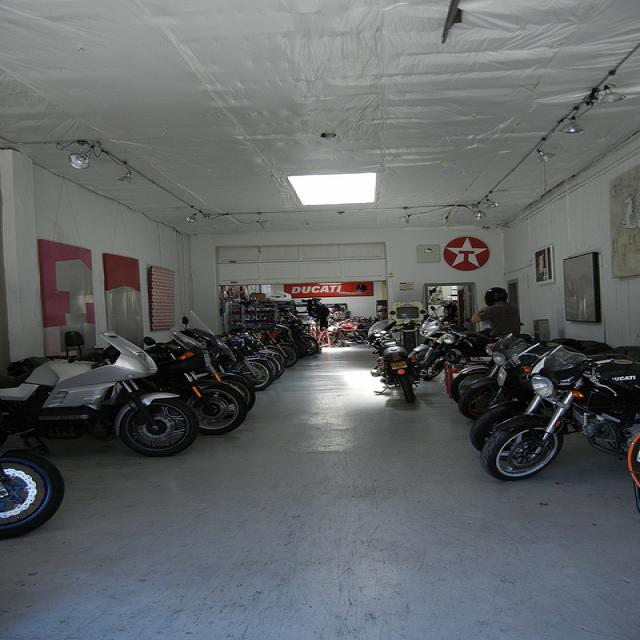motor: (0, 330, 202, 457), (482, 345, 640, 480), (467, 340, 640, 454), (138, 327, 249, 435), (185, 316, 368, 372), (181, 315, 256, 413), (409, 305, 525, 367), (450, 333, 538, 403), (0, 453, 68, 543), (367, 319, 427, 404), (425, 323, 496, 381), (217, 332, 272, 391), (227, 332, 282, 380), (458, 366, 499, 422)
